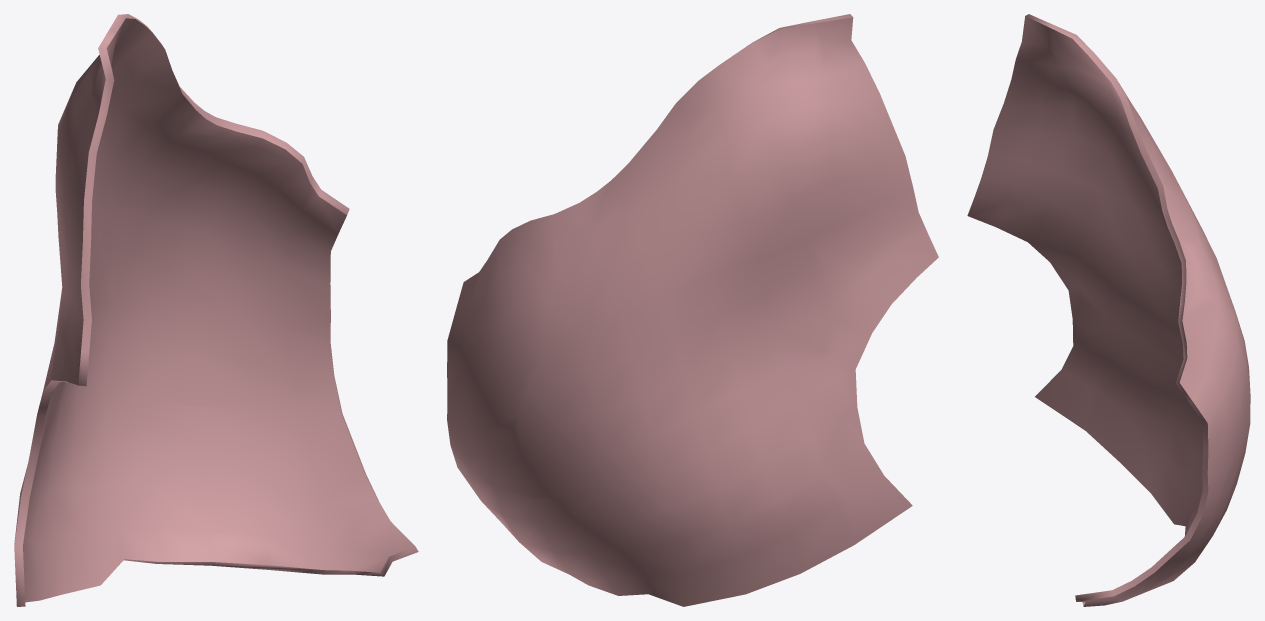
The picture shows the model from 3 angles, left to right: view 1: azimuth 30°, elevation 25°; view 2: azimuth 150°, elevation 25°; view 3: azimuth 270°, elevation 25°; orthographic projection. The views are drawn at different scales.
Visible parts, largest first — view 1: ZA_2589d12bf7f1a67e; view 2: ZA_2589d12bf7f1a67e; view 3: ZA_2589d12bf7f1a67e.
Part boxes in pixels (box(x1,y1,x2,y2)): ZA_2589d12bf7f1a67e: box(14, 14, 418, 606); ZA_2589d12bf7f1a67e: box(447, 14, 938, 606); ZA_2589d12bf7f1a67e: box(967, 14, 1250, 606).
Bounding box in the file's own units: 0.1706 × 0.2455 × 0.1306.
